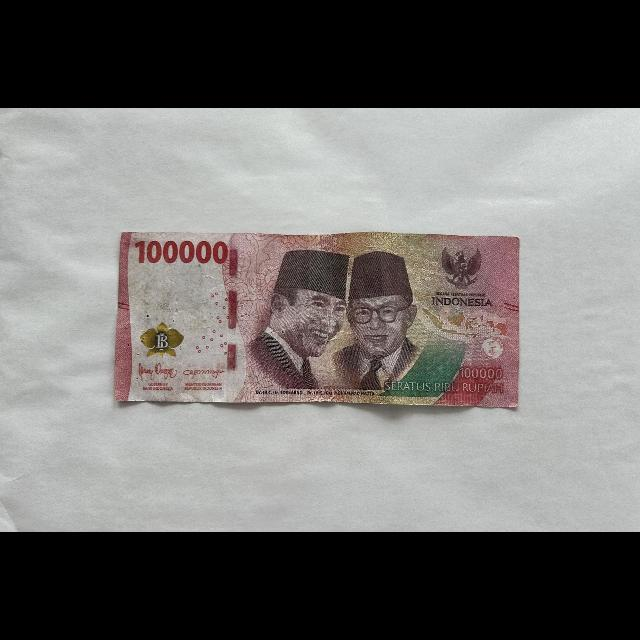Palsu-100k: (113, 231, 521, 409)
Tinta-Palsu-100k: (140, 322, 185, 358)
